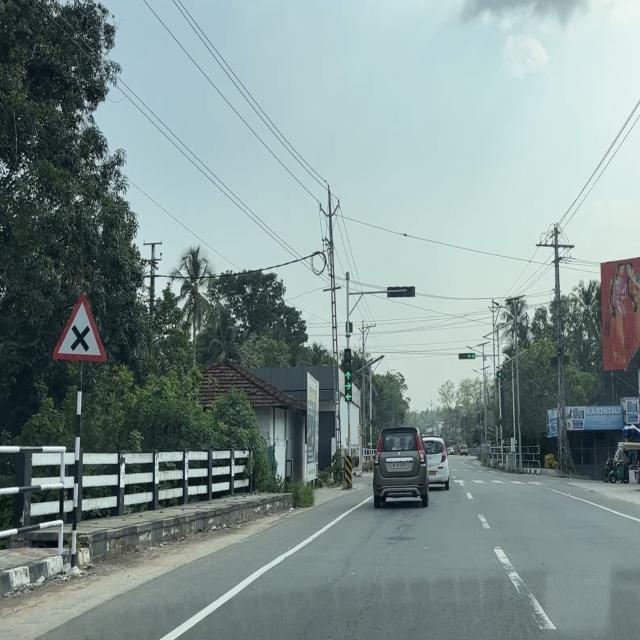CROSS_ROAD: (50, 290, 108, 367)
